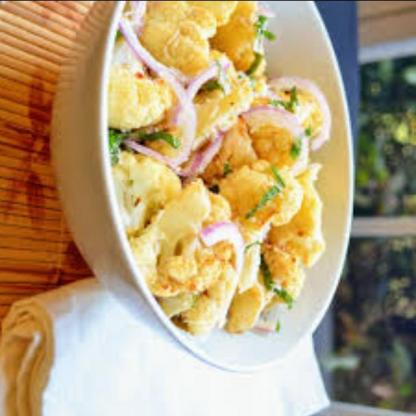cayliflower: (135, 0, 338, 326)
